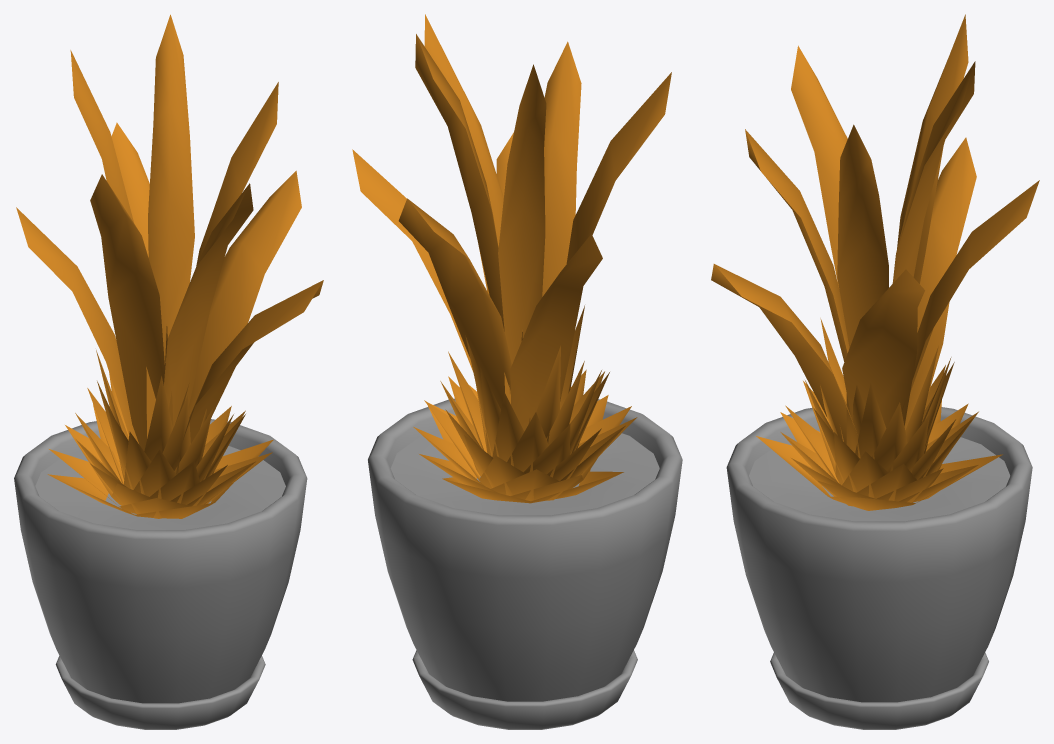
The model's file is SM_Plant_01_D.FBX.
3 views of the same model, side by side, from view 1: azimuth 30°, elevation 25°; view 2: azimuth 150°, elevation 25°; view 3: azimuth 270°, elevation 25° (orthographic). The views are drawn at different scales.
Visible parts, largest first — view 1: SM_Plant_01_D; view 2: SM_Plant_01_D; view 3: SM_Plant_01_D.
Part boxes in pixels (<box>): SM_Plant_01_D: <box>14,14,323,729</box>; SM_Plant_01_D: <box>352,14,682,729</box>; SM_Plant_01_D: <box>711,14,1039,729</box>.
Size of what is drawn, in the model's own units: 25.51 by 56.34 by 25.46.
